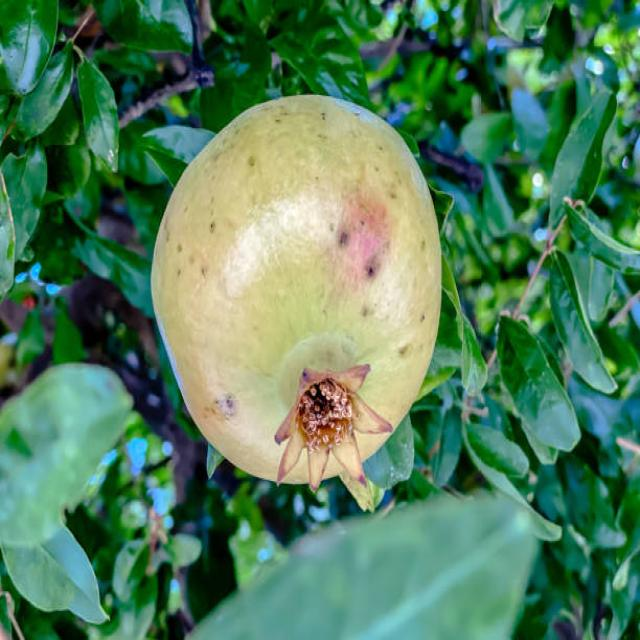Unripe: (154, 91, 443, 496)
